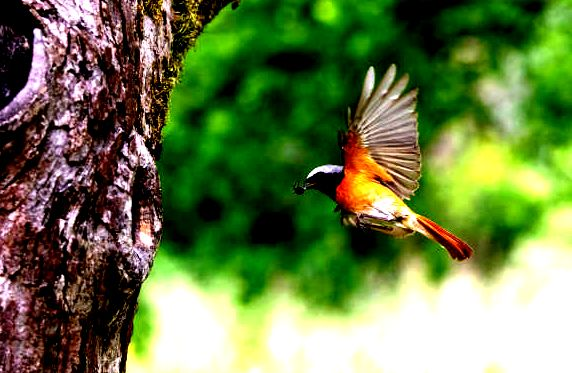Bird: (291, 59, 473, 263)
